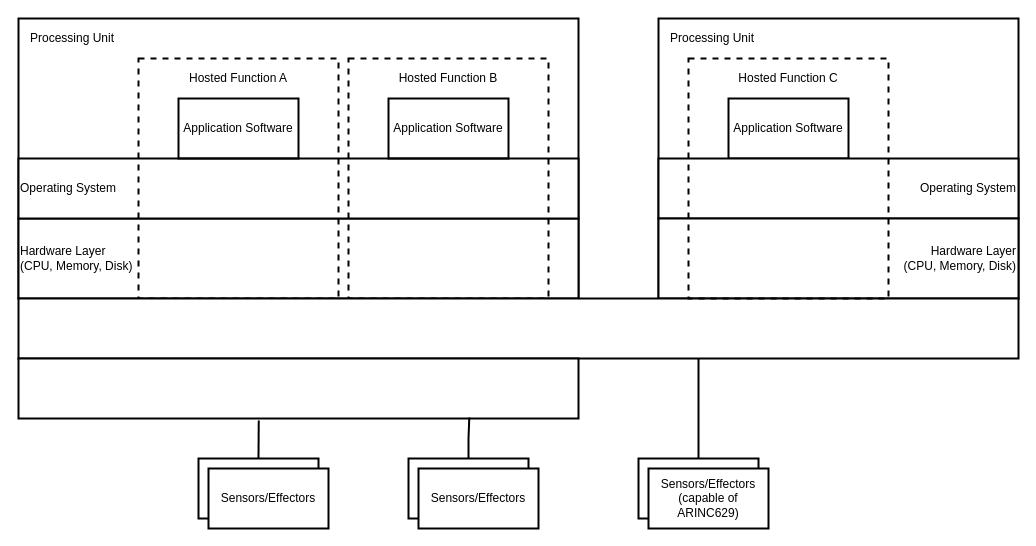
Image size: 1036x546. Some labels were removed from this diagram. Here are the shapes that lost their labels. From the top down, the box of each, then its label:
(17, 297, 1019, 359): Network Layer
(17, 357, 579, 419): Remote Data Concentrators
